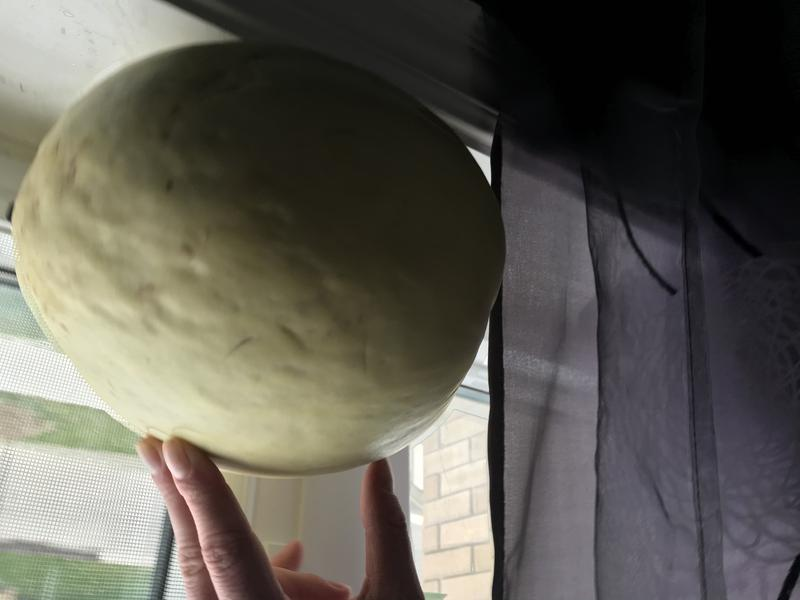honeydew: (6, 31, 522, 488)
